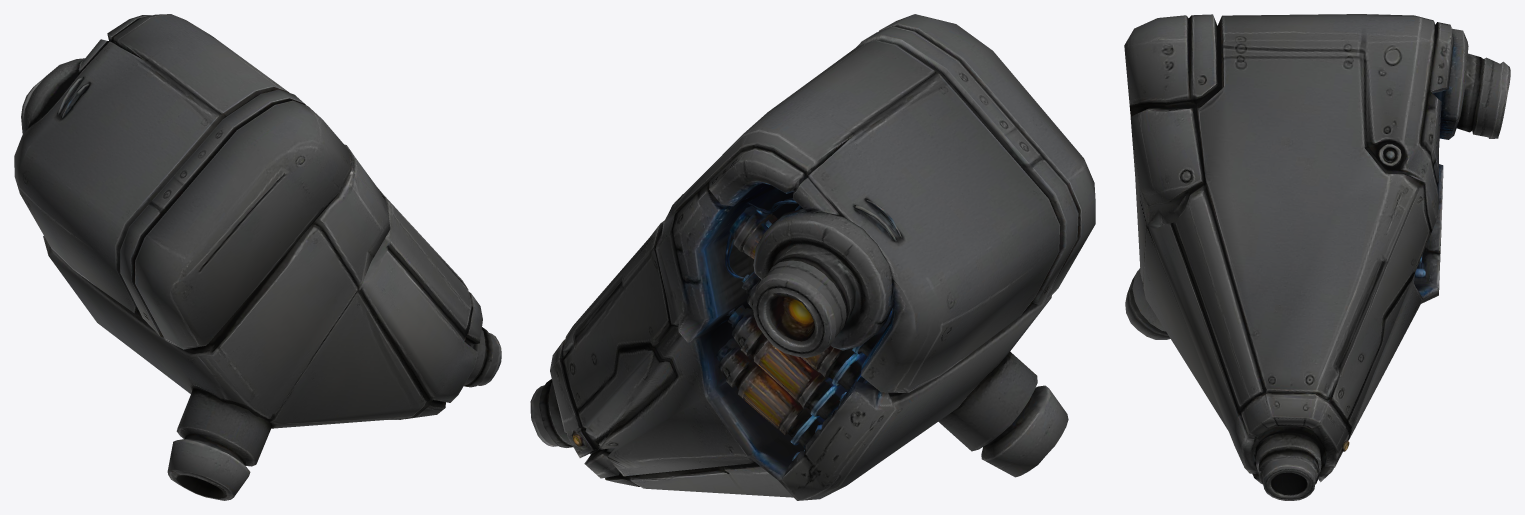
The model's file is vector-wedge.glb.
The picture shows the model from 3 angles, left to right: view 1: azimuth 30°, elevation 25°; view 2: azimuth 150°, elevation 25°; view 3: azimuth 270°, elevation 25°; orthographic projection. The views are drawn at different scales.
Visible parts, largest first — view 1: tripo_node_d875ef55-e6d4-4a8a-ba20-5e480740a86f; view 2: tripo_node_d875ef55-e6d4-4a8a-ba20-5e480740a86f; view 3: tripo_node_d875ef55-e6d4-4a8a-ba20-5e480740a86f.
Part boxes in pixels (bbox=[...]): tripo_node_d875ef55-e6d4-4a8a-ba20-5e480740a86f: bbox=[14, 14, 501, 500]; tripo_node_d875ef55-e6d4-4a8a-ba20-5e480740a86f: bbox=[530, 14, 1095, 500]; tripo_node_d875ef55-e6d4-4a8a-ba20-5e480740a86f: bbox=[1124, 14, 1510, 500].
Bounding box in the file's own units: 0.998 × 0.9082 × 0.8418.
Materials: 1 (1 with a texture image).
